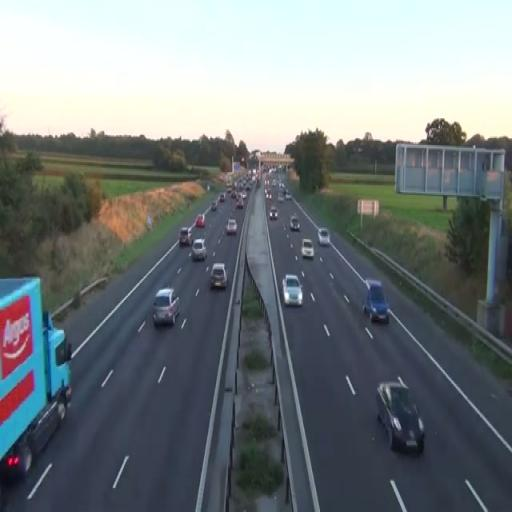Car: (362, 279, 390, 324), (153, 286, 180, 328), (282, 274, 303, 306), (210, 263, 228, 290), (191, 238, 207, 262), (301, 238, 314, 260), (179, 226, 192, 246), (318, 228, 330, 246), (226, 218, 237, 236), (290, 215, 300, 232), (269, 206, 279, 221)
Truck: (0, 276, 73, 483), (376, 377, 425, 455)
